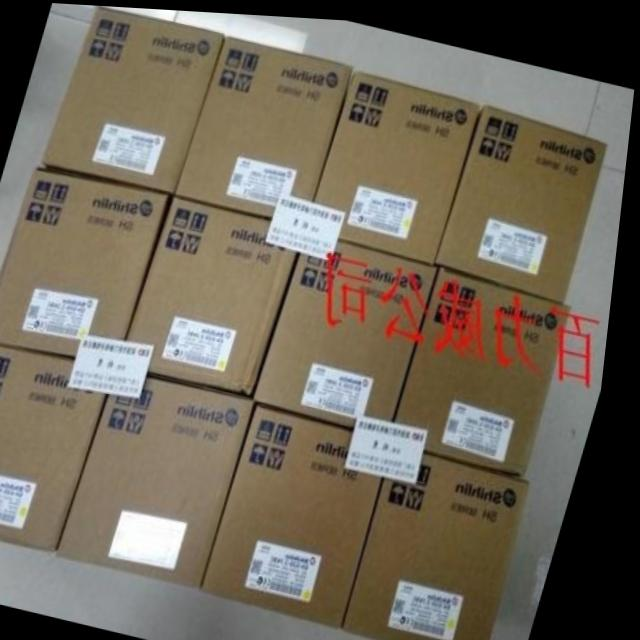box: (70, 373, 262, 583), (214, 401, 391, 623), (401, 262, 575, 468), (354, 450, 539, 640), (42, 5, 224, 194), (438, 98, 609, 298), (263, 237, 443, 425), (0, 168, 175, 356), (134, 194, 301, 391), (318, 67, 483, 257), (180, 34, 353, 213), (0, 342, 115, 551)
